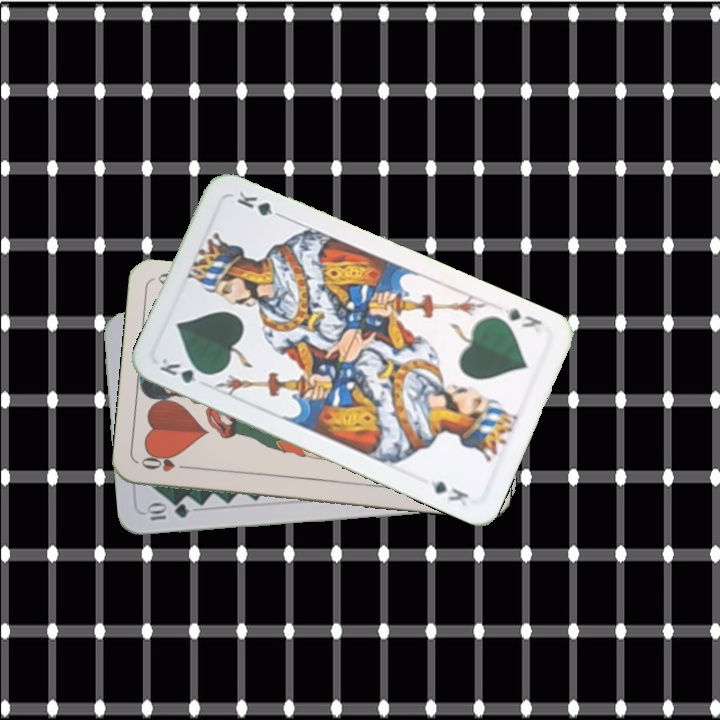G10: (142, 500, 191, 523)
GK: (155, 353, 213, 386), (499, 303, 545, 336)
HO: (137, 452, 196, 475)
